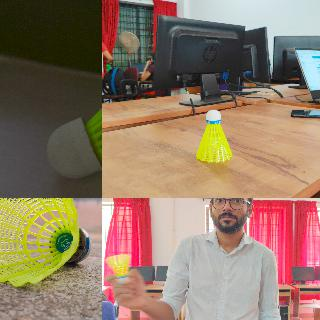shuttlecock: (0, 198, 93, 286), (46, 34, 101, 178), (196, 108, 232, 162), (103, 254, 129, 282)
